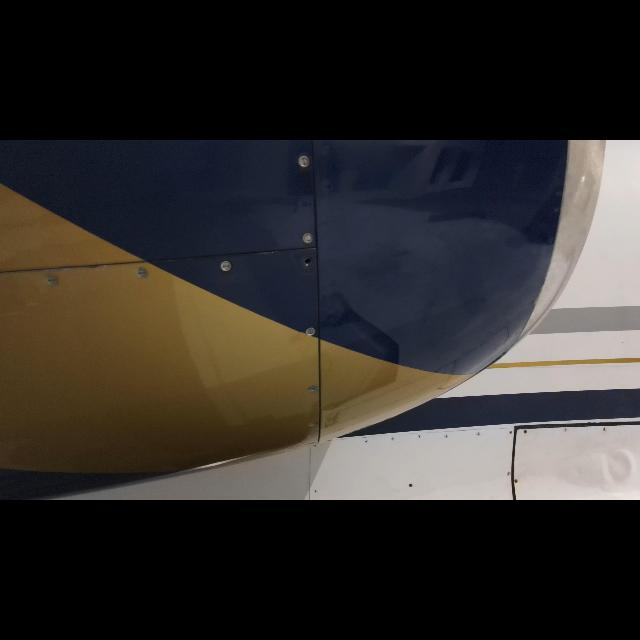Missing Fastener: (300, 257, 314, 269)
